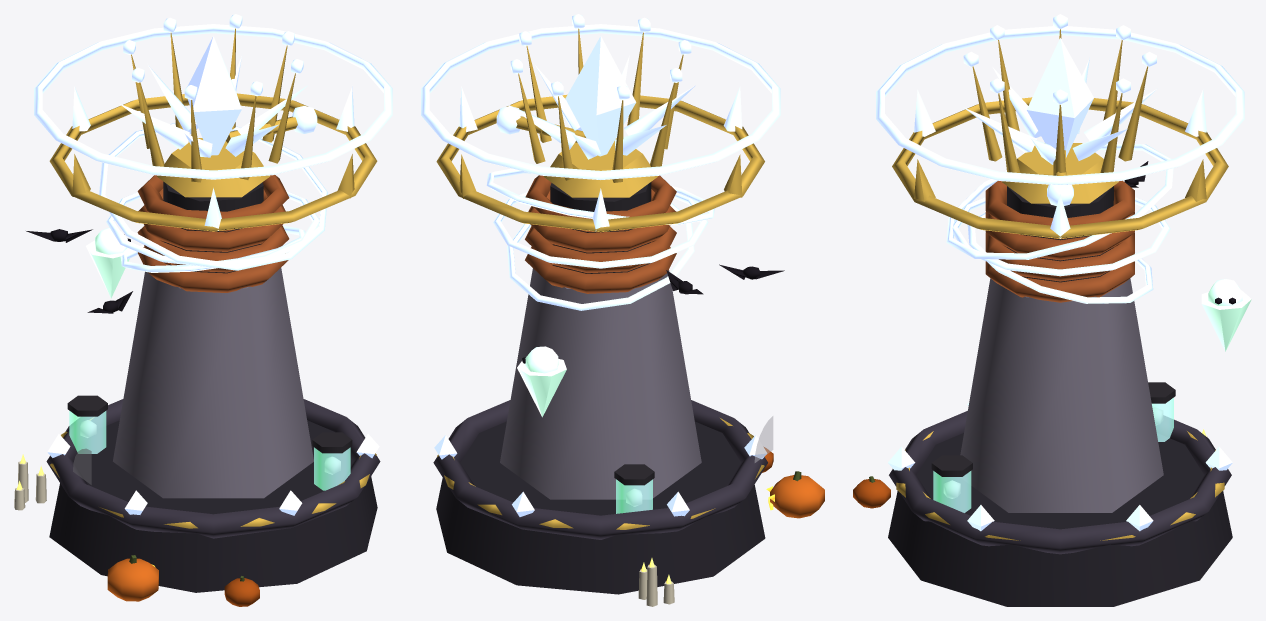
File: tower_chain_tempest_ultimate.glb
3 renders of one model, left to right at view 1: azimuth 30°, elevation 25°; view 2: azimuth 150°, elevation 25°; view 3: azimuth 270°, elevation 25°, orthographic. The views are drawn at different scales.
Visible parts, largest first — view 1: shaft, base, base_rim, ult_halo, ult_crown_band, crystal_core, cap, antenna_ring_2, coil_2, coil_0, coil_3, deco_hw_jack_body (+20 smaller); view 2: shaft, base, base_rim, ult_halo, ult_crown_band, crystal_core, cap, coil_0, coil_2, coil_1, antenna_ring_0, antenna_ring_1 (+17 smaller); view 3: shaft, base, base_rim, ult_halo, ult_crown_band, crystal_core, cap, antenna_ring_2, coil_3, coil_0, coil_1, coil_2 (+21 smaller).
Boxes of the visible parts, <box> form: shaft: <box>113,262,313,498</box>; base: <box>49,420,377,592</box>; base_rim: <box>46,399,380,538</box>; ult_halo: <box>34,24,392,179</box>; ult_crown_band: <box>49,93,377,231</box>; crystal_core: <box>187,36,241,155</box>; cap: <box>156,138,270,197</box>; antenna_ring_2: <box>99,123,327,270</box>; coil_2: <box>138,188,285,251</box>; coil_0: <box>138,246,288,292</box>; coil_3: <box>137,175,289,231</box>; deco_hw_jack_body: <box>107,558,158,601</box>; shaft: <box>500,263,701,499</box>; base: <box>436,421,765,594</box>; base_rim: <box>433,400,767,539</box>; ult_halo: <box>421,24,780,179</box>; ult_crown_band: <box>436,94,764,232</box>; crystal_core: <box>565,36,636,156</box>; cap: <box>543,138,657,197</box>; coil_0: <box>525,246,676,293</box>; coil_2: <box>528,189,675,252</box>; coil_1: <box>525,226,676,273</box>; antenna_ring_0: <box>507,203,694,310</box>; antenna_ring_1: <box>493,191,708,268</box>; shaft: <box>960,278,1163,512</box>; base: <box>888,433,1232,606</box>; base_rim: <box>889,410,1231,554</box>; ult_halo: <box>876,26,1244,185</box>; ult_crown_band: <box>892,97,1228,238</box>; crystal_core: <box>1027,38,1093,157</box>; cap: <box>1002,143,1118,203</box>; antenna_ring_2: <box>946,143,1173,259</box>; coil_3: <box>985,180,1134,239</box>; coil_0: <box>985,253,1134,302</box>; coil_1: <box>985,232,1134,281</box>; coil_2: <box>985,211,1134,260</box>.
Bounding box in the file's own units: 0.4395 × 0.64 × 0.4624.
